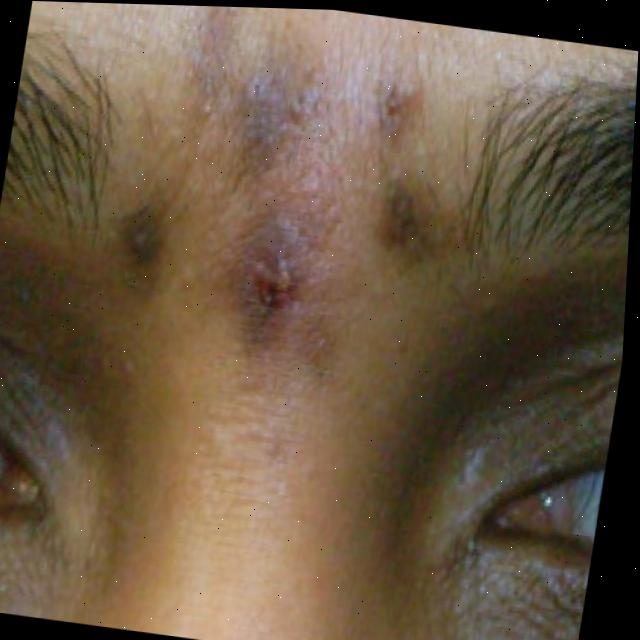Acne: (158, 63, 374, 317)
